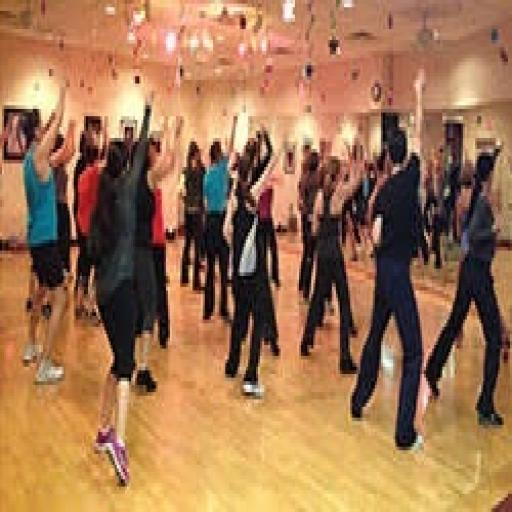dancing: (303, 36, 512, 418), (56, 73, 225, 452), (126, 86, 294, 431), (17, 58, 83, 390)
